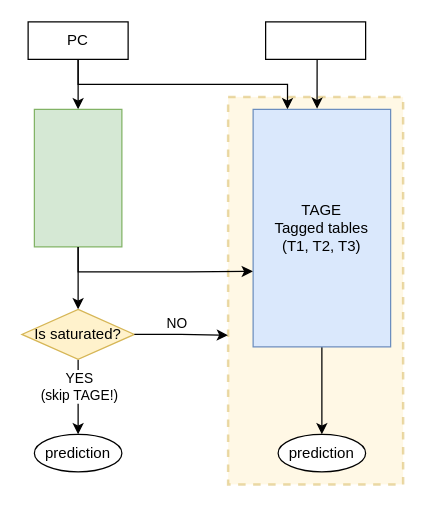
The diagram is 426 pixels wide and 508 high, and some of its shapes have lost their labels. Each missing label, with the centre of its shape:
"BHR" goes at [315,40].
"Bimodal base predictor (T0)" goes at [77,177].
